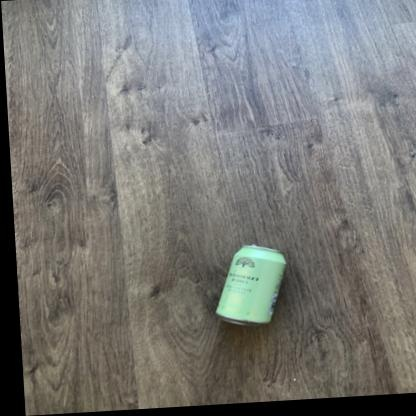trash: (216, 245, 285, 323)
